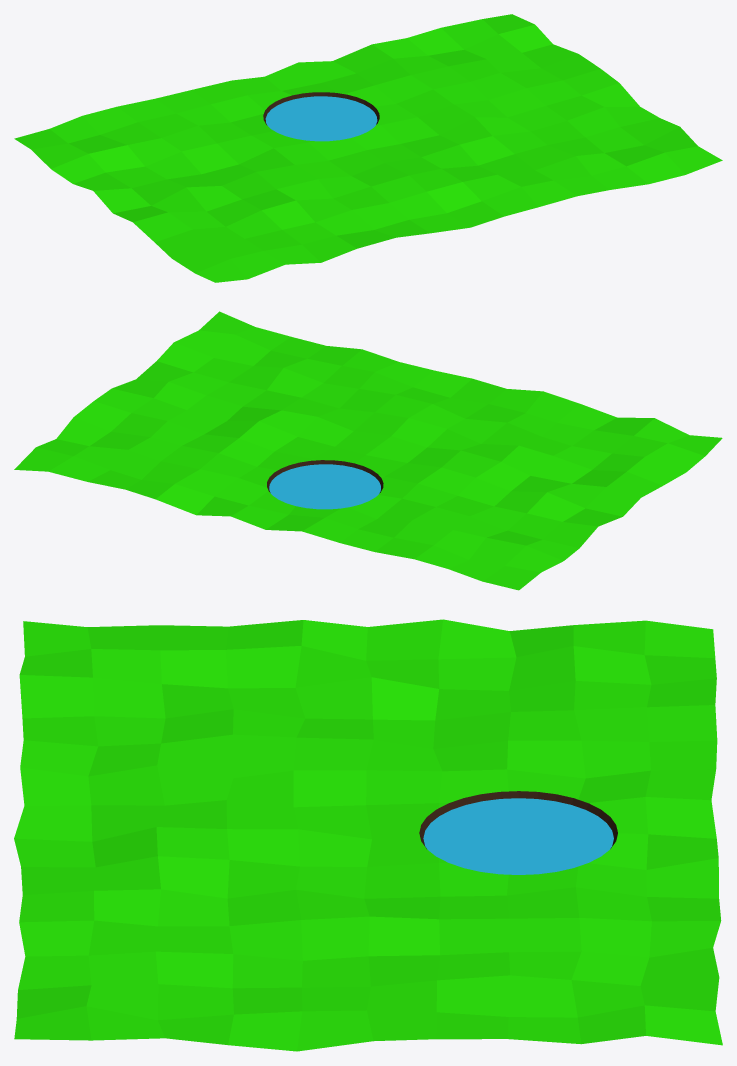
The model's file is GroundTest 2.fbx.
The picture shows the model from 3 angles, top to bottom: view 1: azimuth 30°, elevation 25°; view 2: azimuth 150°, elevation 25°; view 3: azimuth 270°, elevation 25°; orthographic projection. The views are drawn at different scales.
Parts seen in each view (by area): view 1: Plane.001; view 2: Plane.001; view 3: Plane.001.
Part boxes in pixels (bbox=[...]): Plane.001: bbox=[14, 14, 722, 282]; Plane.001: bbox=[14, 311, 722, 590]; Plane.001: bbox=[14, 619, 722, 1051].
Size of the model in its own units: 1011 by 18.13 by 713.
